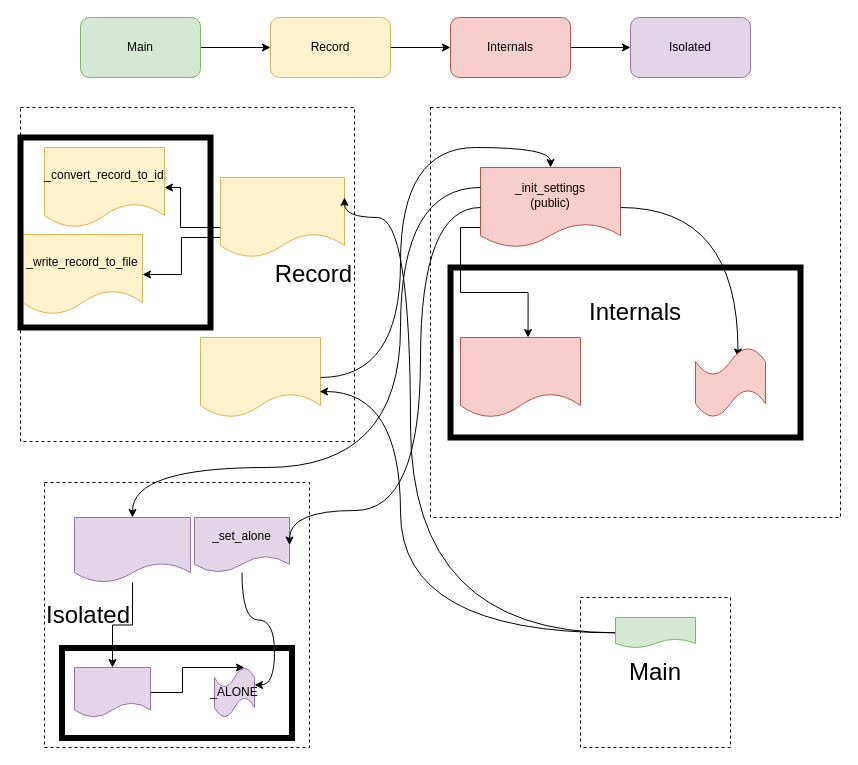
The diagram is 858 pixels wide and 765 high, and some of its shapes have lost their labels. The centre of each missing label's shape, as x and y in pixels:
"_is_alone" goes at point 112,692.
"_main" goes at point 655,632.
"_more_details" goes at point 730,382.
"_my_business_fun" goes at point 520,377.
"_pp" goes at point 132,549.
"_pp_record (public)" goes at point 260,377.
"_store_record (public)" goes at point 282,217.
